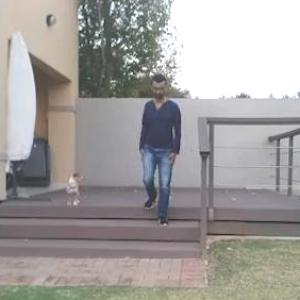follow: (142, 72, 182, 228)
